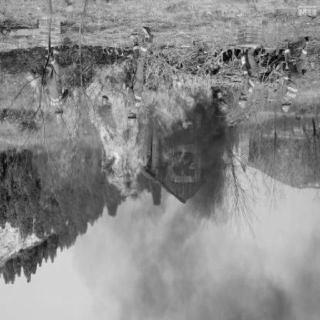other: (240, 44, 260, 116)
